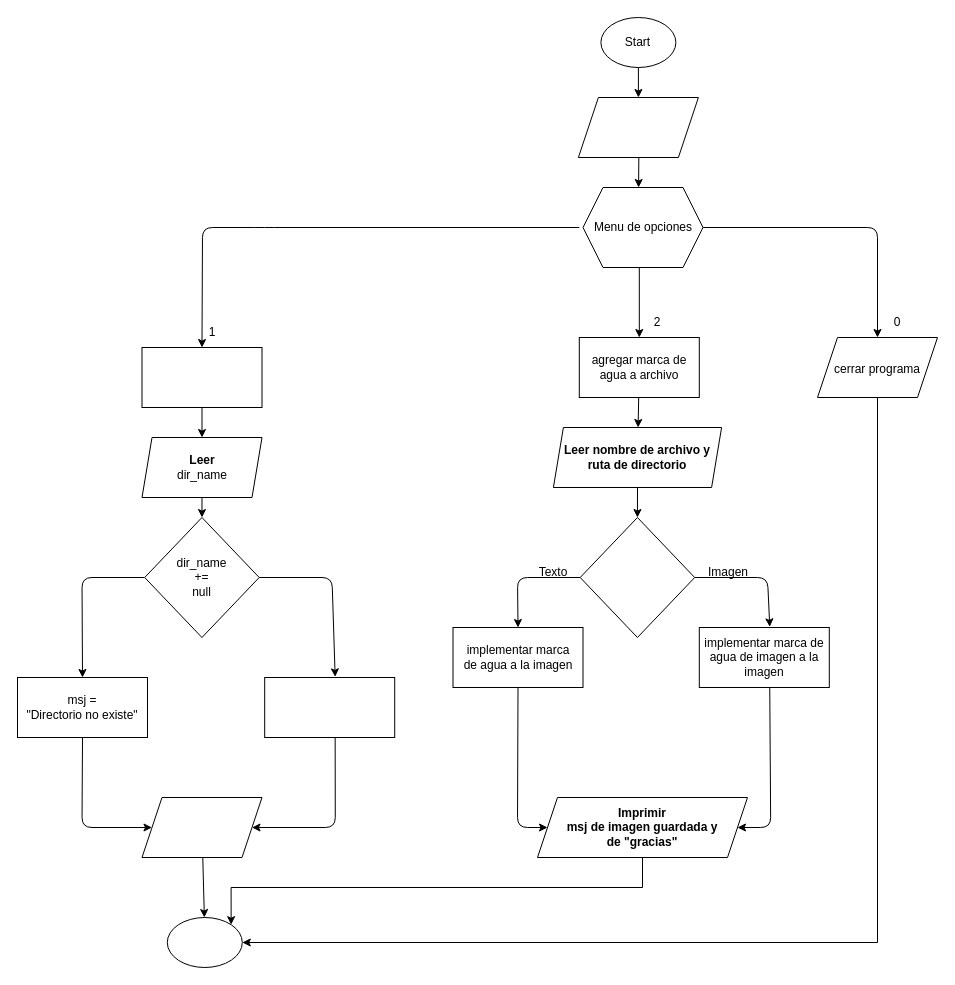
This 955x985 diagram has some shape labels left out. The shapes that lost their labels are listed below. From the top down, each one's centre as x and y in pixels, then its label:
point 637,127: Lectura de menu
point 201,377: Obtener lista de archivos de directorio
point 637,577: tipo de marca de agua
point 329,707: msj = "Las imágemes son: "+imagenes[]
point 201,827: Imprimir msj
point 204,942: Fin
